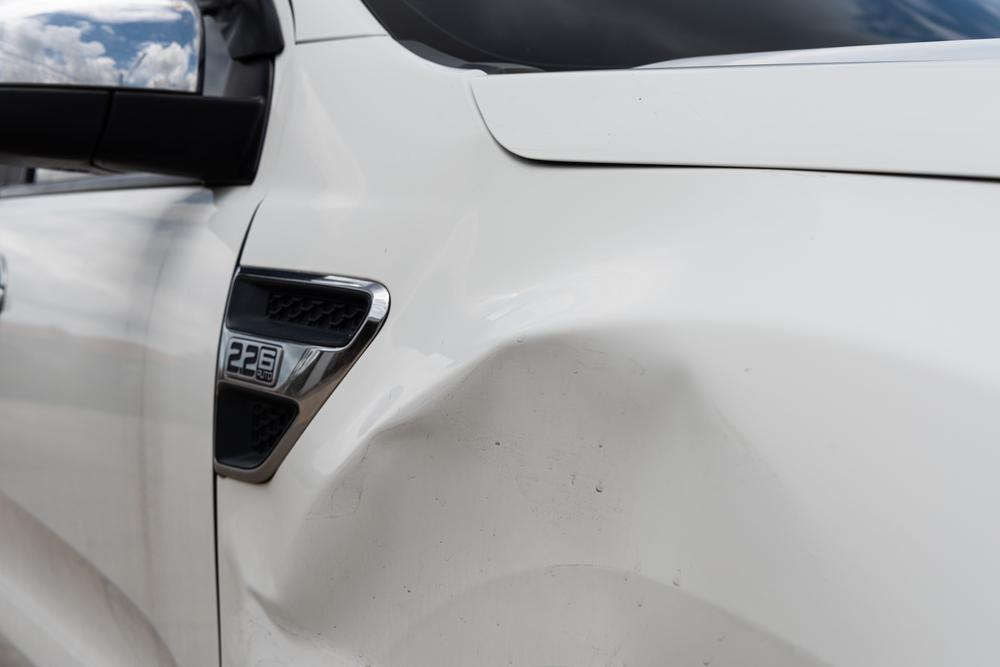dent: (235, 334, 958, 667)
